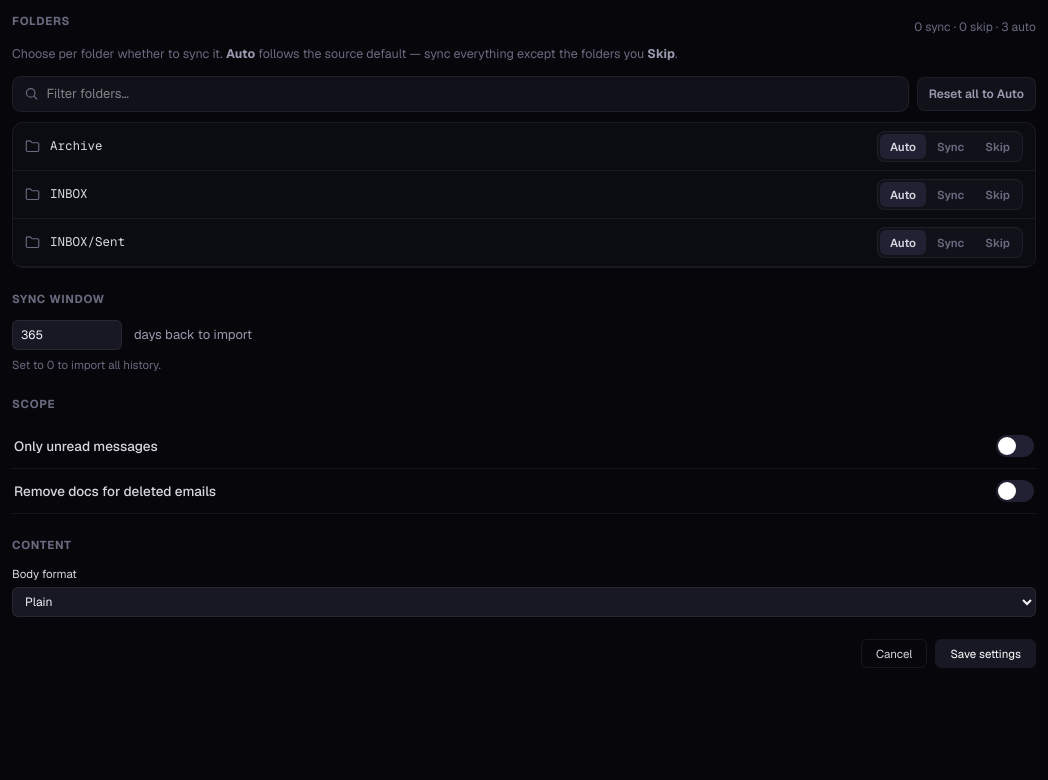
it: SyncSettingsForm (tri-state) › filters the folder list by the search box
Type "arch" into the field with test id "connector-imap-settings-folder-search" at x=472, y=94, box [47, 84, 897, 104]
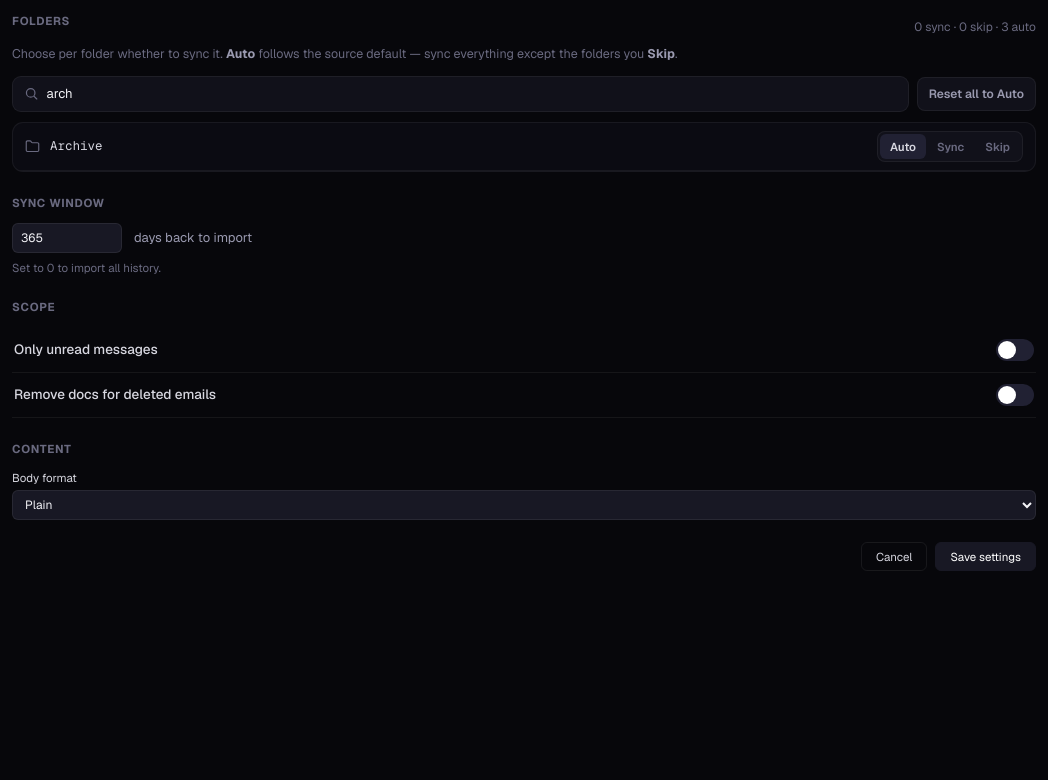
expect the list item with test id "connector-imap-settings-folder-archive" is shown: met, box [13, 122, 1035, 171]
expect the list item with test id "connector-imap-settings-folder-inbox" is gone: met
